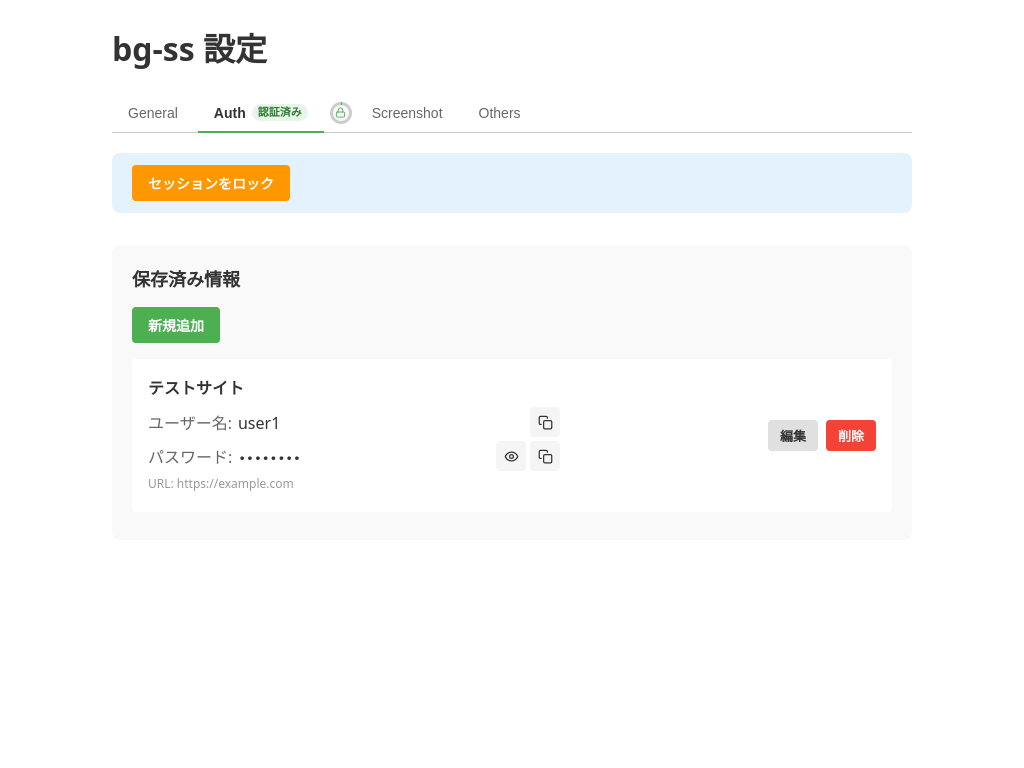
Test: Options App › 情報削除 › 削除ボタンをクリックすると確認ダイアログが表示される
// 削除ボタンをクリック
Click the button with class "btn-danger" at (851, 436), box left=826, top=420, right=876, bottom=451
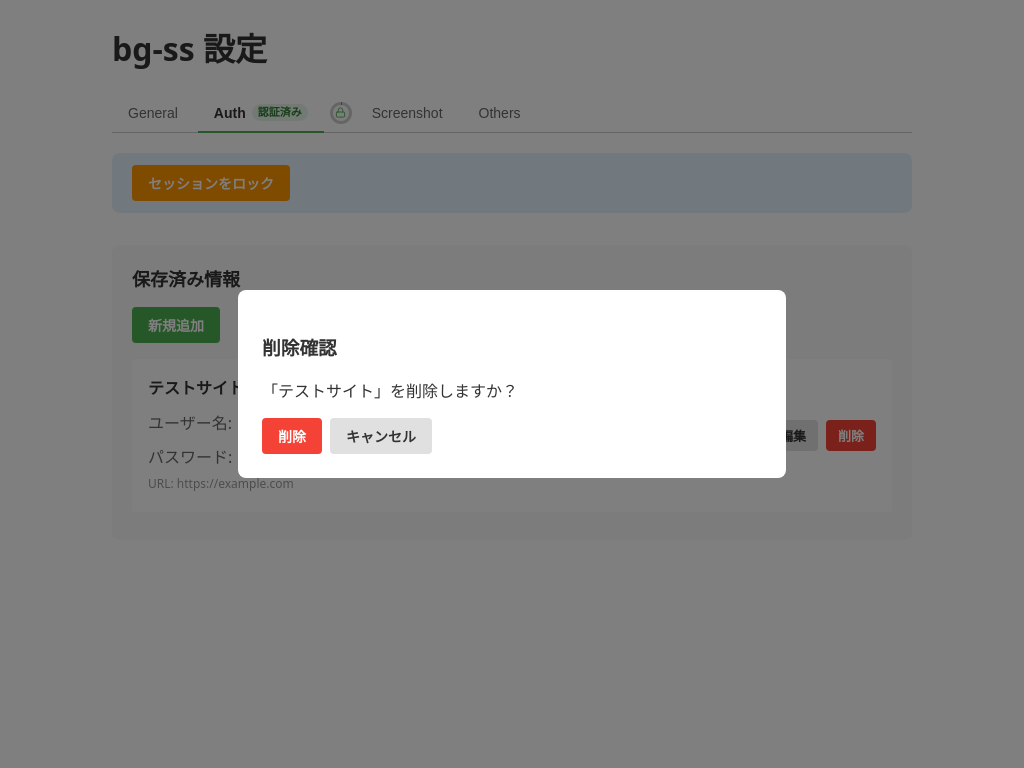
Expected: the text "テストサイト" is shown, left=148, top=377, right=244, bottom=399
Expected: the text "削除確認" is shown, left=262, top=334, right=337, bottom=360
Expected: the text "削除しますか" is shown, left=262, top=380, right=518, bottom=402
